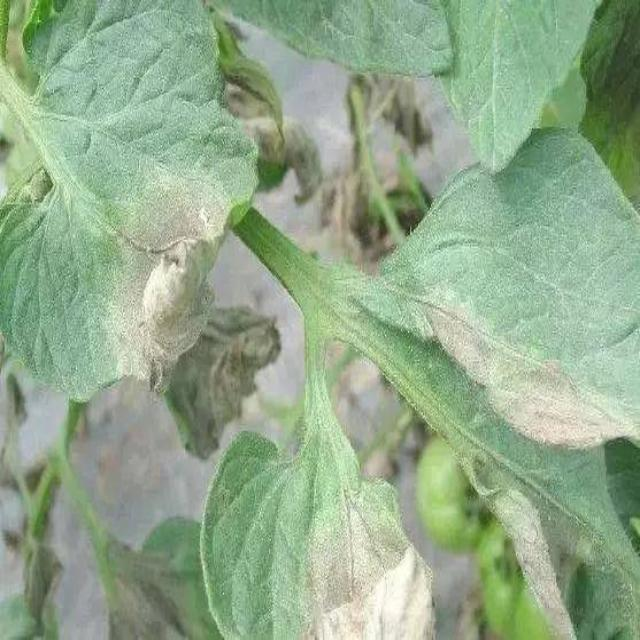Early_blight: (419, 286, 640, 450), (92, 179, 223, 397), (464, 458, 602, 640), (294, 488, 440, 640), (165, 301, 279, 460), (222, 80, 323, 206), (95, 542, 197, 640), (321, 172, 395, 276), (368, 71, 435, 158)
